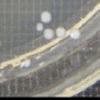white: (39, 10, 56, 25), (54, 23, 67, 40), (41, 26, 55, 41), (19, 56, 33, 70), (68, 29, 82, 41), (34, 21, 44, 32)
